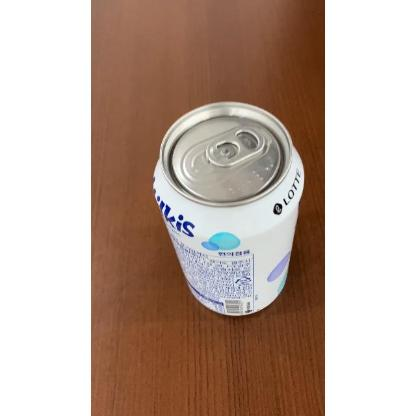Can: (151, 97, 307, 321)
